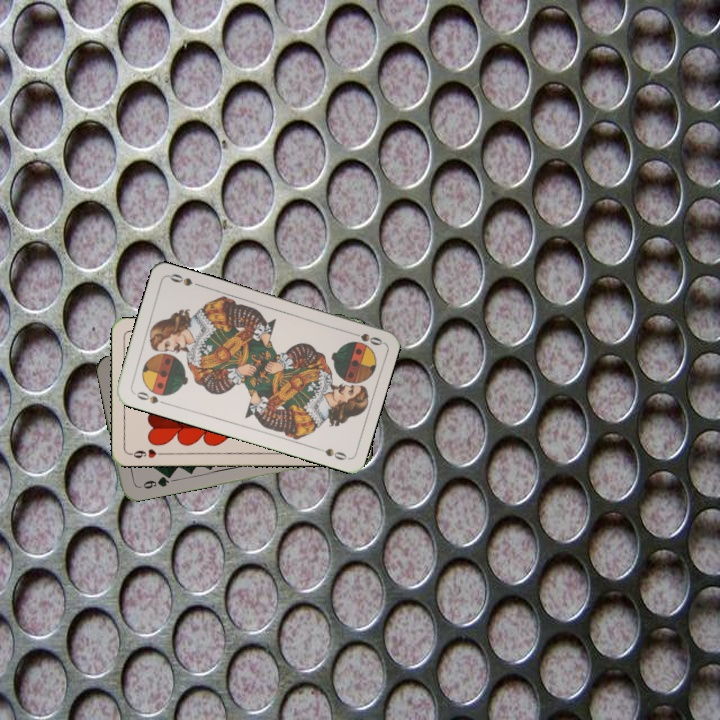G9: (134, 471, 173, 492)
H9: (126, 445, 167, 461)
SO: (345, 328, 385, 348), (132, 387, 169, 407)
